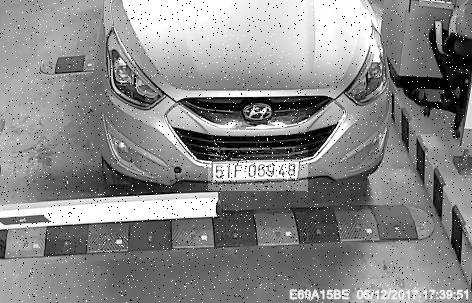License-plate: (209, 148, 309, 192)
